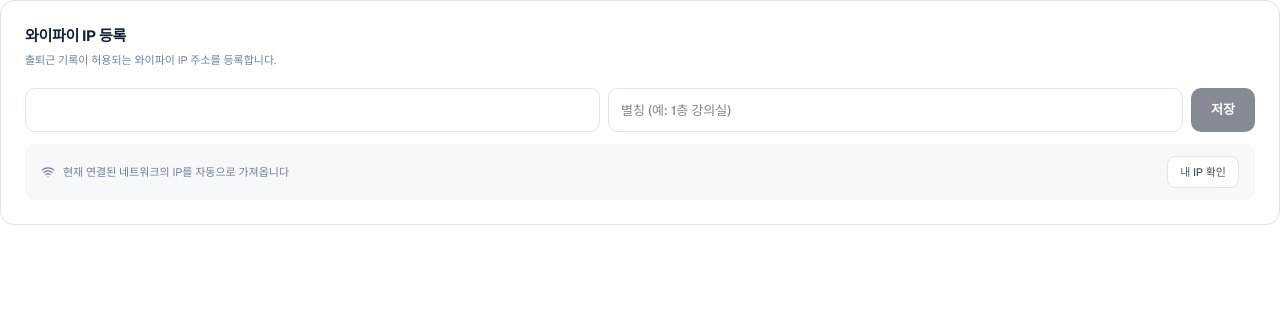
Test case: SettingWifi › 내 IP 확인을 클릭하면 조회 결과와 이 IP로 등록 버튼을 노출한다
Step 1. Click the button "내 IP 확인" → coordinates (1203, 172), box [1167,156,1239,188]
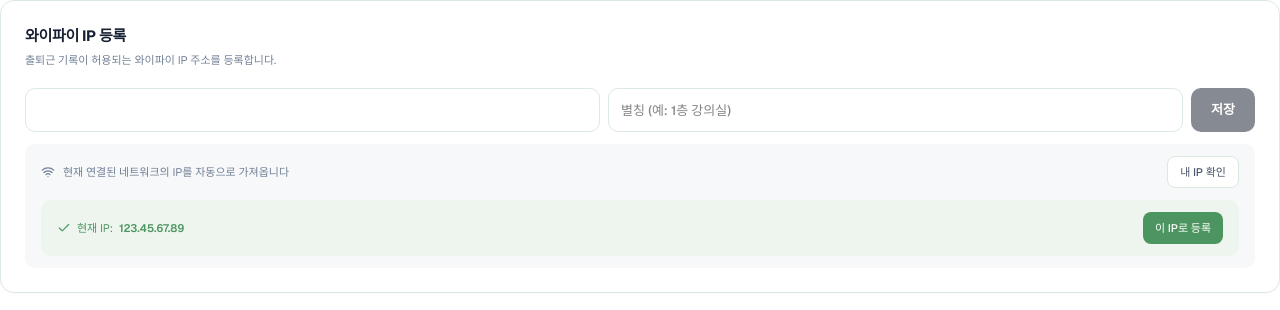
Now the text "123.45.67.89" is shown, box [119,220,184,236]
Now the button "이 IP로 등록" is shown, box [1143,212,1223,244]
